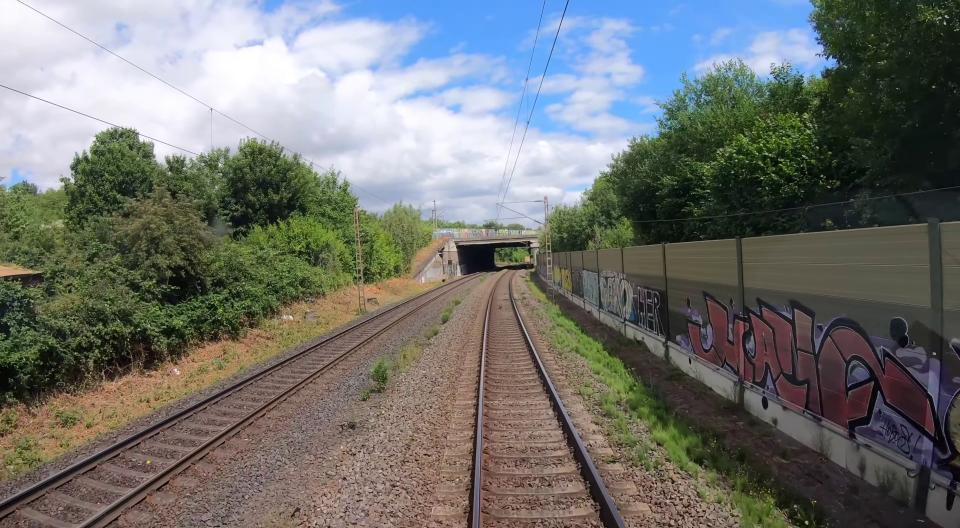Plant: (528, 281, 831, 528), (393, 324, 440, 372), (600, 392, 640, 448), (626, 442, 659, 471), (371, 359, 389, 393), (577, 378, 592, 397), (441, 309, 452, 324), (361, 391, 371, 401), (452, 297, 462, 307)
